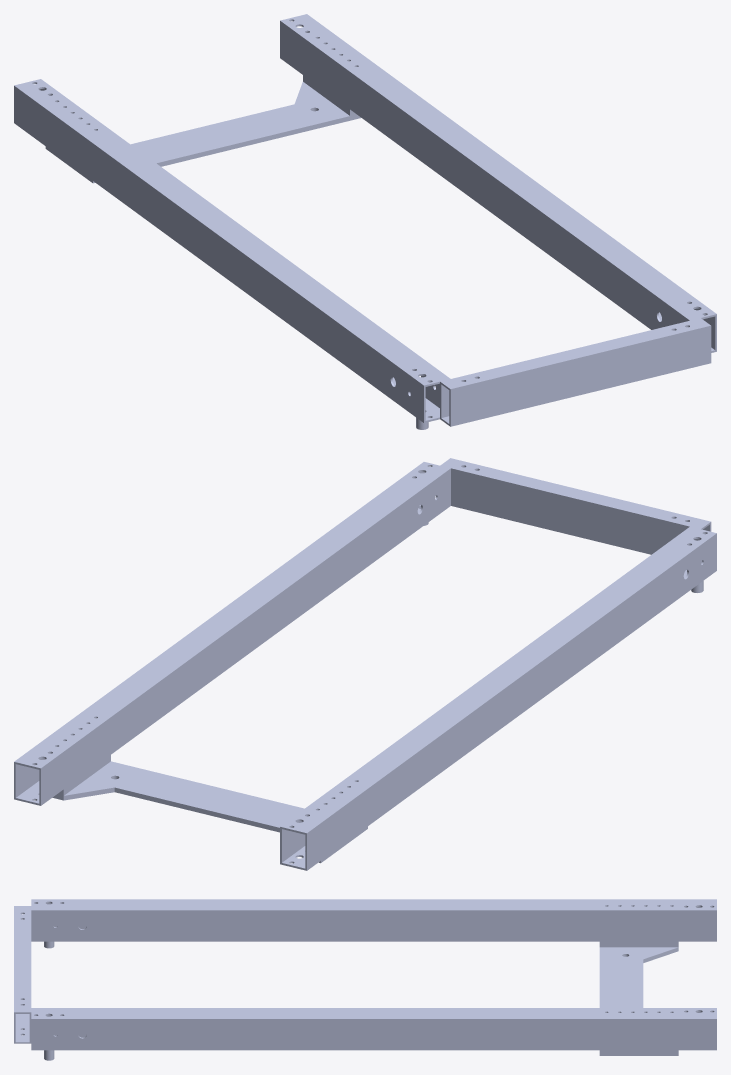
The picture shows the model from 3 angles, top to bottom: view 1: azimuth 30°, elevation 25°; view 2: azimuth 150°, elevation 25°; view 3: azimuth 270°, elevation 25°; orthographic projection. The views are drawn at different scales.
Visible parts, largest first — view 1: SOLID (×4); view 2: SOLID (×4); view 3: SOLID (×5).
Part boxes in pixels (x1,y1,x2,y2): SOLID (×4): (14, 14, 716, 426); SOLID (×4): (14, 458, 716, 870); SOLID (×5): (14, 899, 716, 1055).
Bounding box in the file's own units: 0.326 × 0.055 × 0.81.
